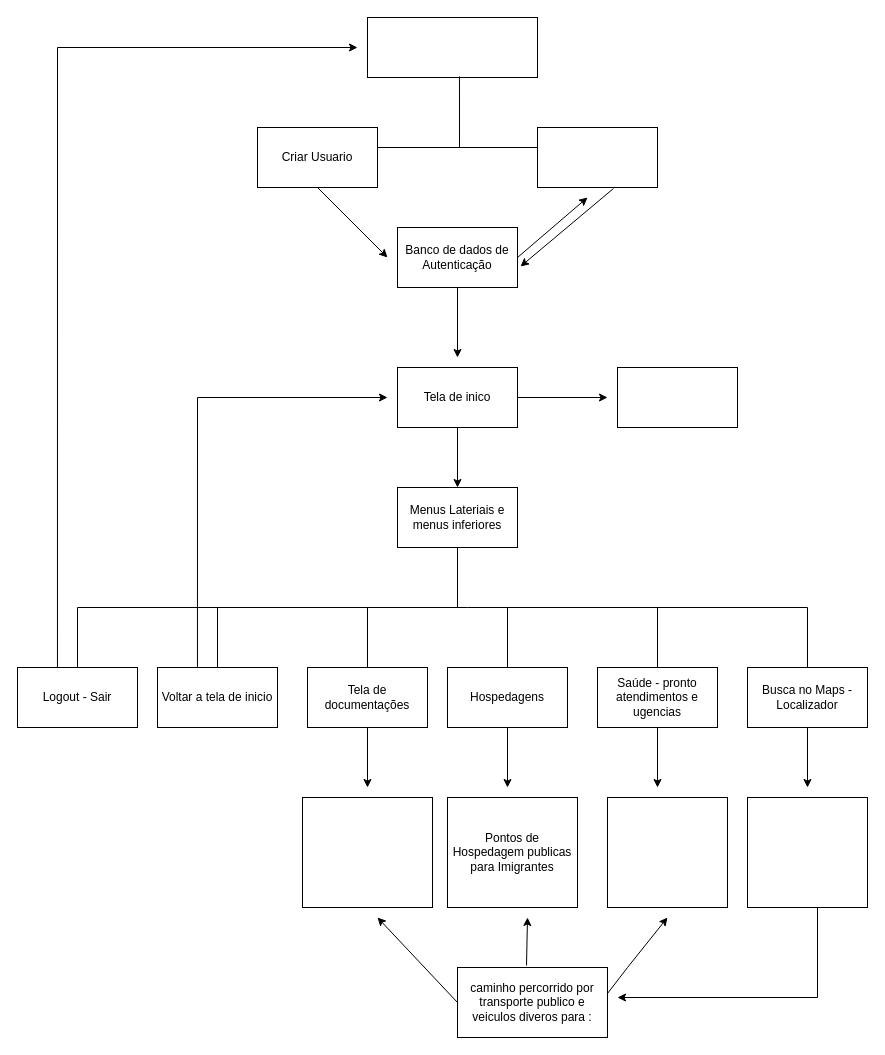
The diagram is 885 pixels wide and 1055 high, and some of its shapes have lost their labels. Here are the shapes that lost their labels. From the top down, the box of each, then its label:
(366, 16, 538, 78): Tela de Login - Autenticação
(536, 126, 658, 188): Acesso com usuario e senha
(616, 366, 738, 428): Acesso aos telefone uteis e de urgencia
(302, 796, 432, 908): Principais documentos para legalização no Brazil para Imigrantes
(606, 796, 728, 908): Ponto de atendimento a Saúde e ugencia (SAMU, UPA's e UBS)
(746, 796, 868, 908): Sua localização e a distancia para onde pretende ir
